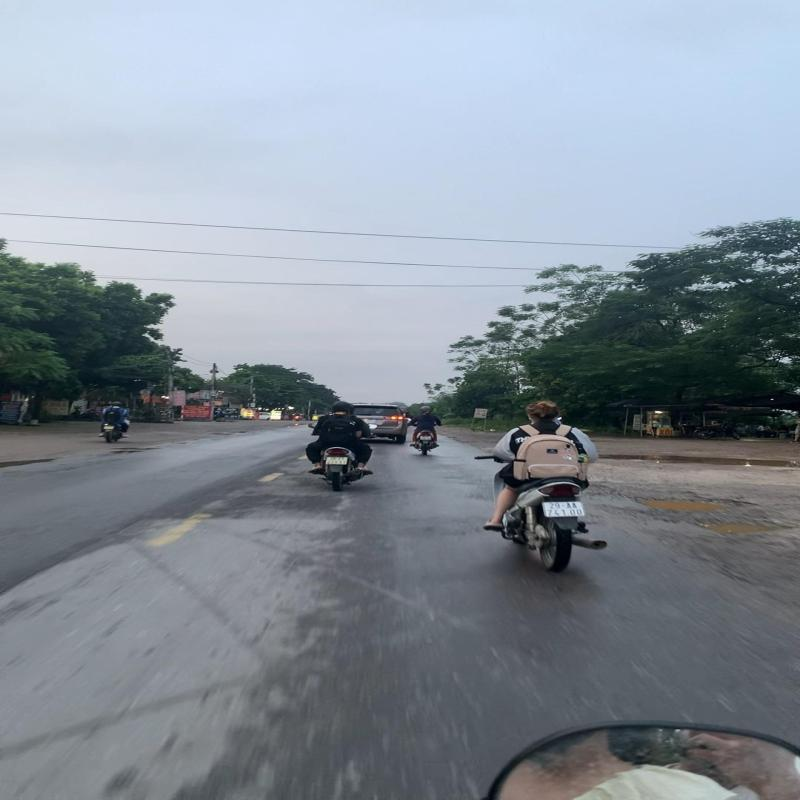licenseplate: (540, 500, 587, 518)
motorcyclist: (470, 396, 612, 574)
nohelmet: (521, 398, 563, 422)
